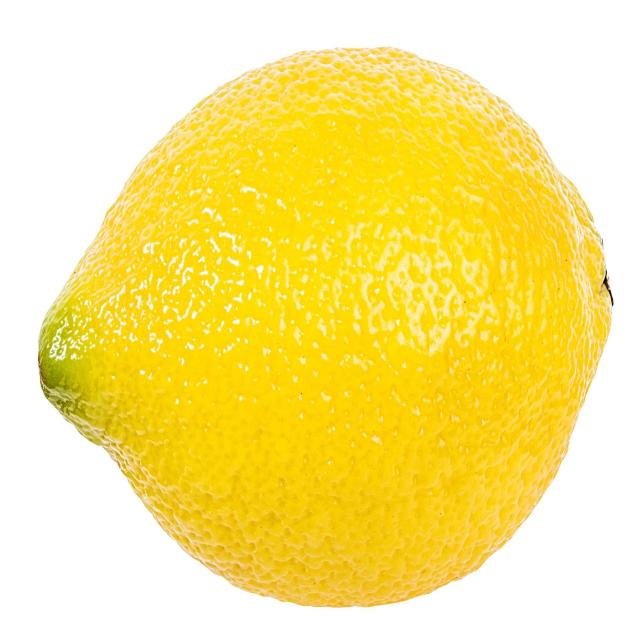lemon: (31, 42, 618, 613)
